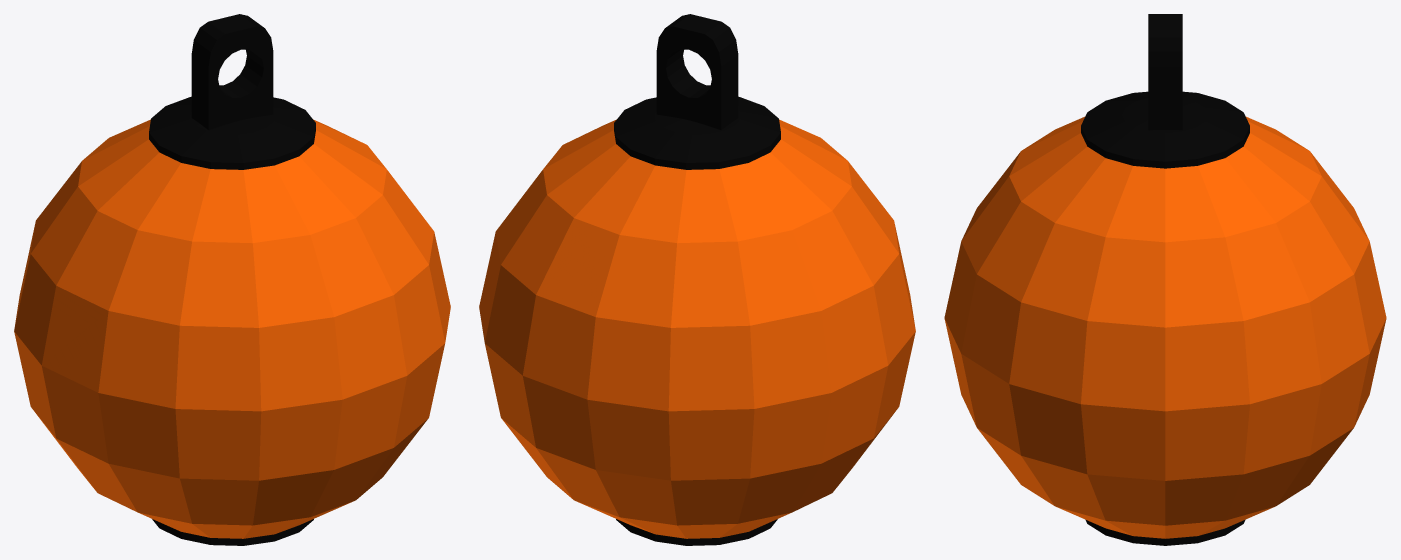
File: mini_buoy_orange.glb
3 renders of one model, left to right at view 1: azimuth 30°, elevation 25°; view 2: azimuth 150°, elevation 25°; view 3: azimuth 270°, elevation 25°, orthographic.
Parts seen in each view (by area): view 1: mini_buoy_orange; view 2: mini_buoy_orange; view 3: mini_buoy_orange.
Boxes of the visible parts, left/top/right/bottom form: mini_buoy_orange: left=14, top=14, right=450, bottom=545; mini_buoy_orange: left=479, top=14, right=915, bottom=545; mini_buoy_orange: left=944, top=14, right=1386, bottom=545.
Bounding box in the file's own units: 1.29 × 1.62 × 1.29.
1 material, 1 textured.
